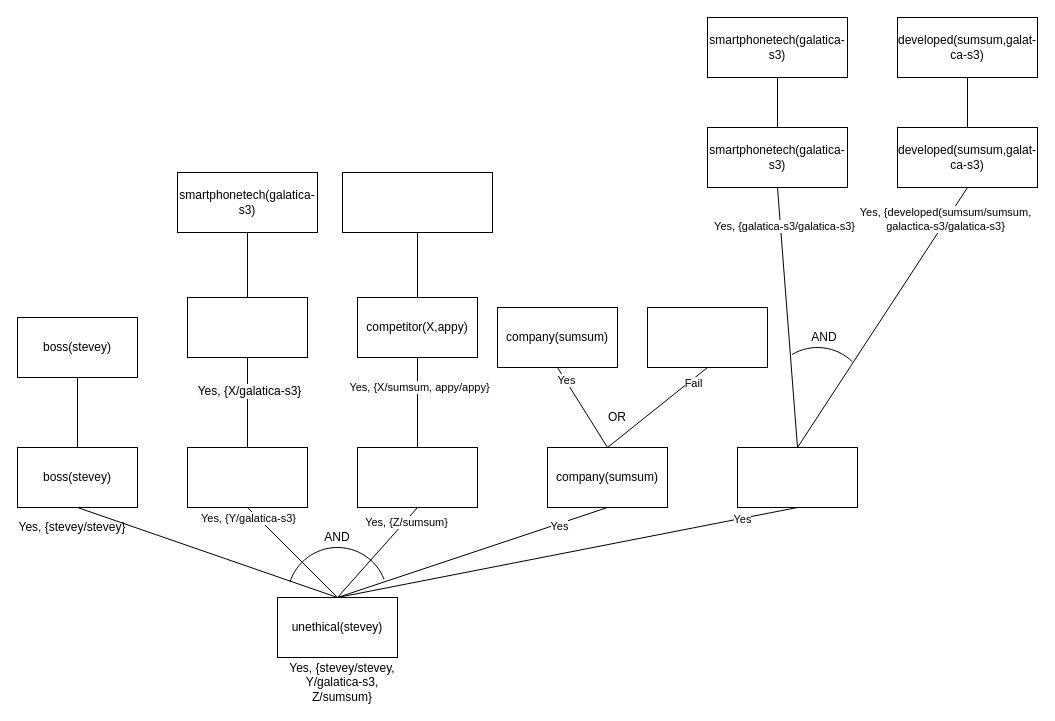
Image size: 1055x721. Some labels were removed from this diagram. The shapes that lost their labels are listed below. From the top down, each one's centre as x and y in pixels, then its label:
At point (417, 202): "competitor(sumsum,appy)".
At point (247, 327): "smartphonetech(X)".
At point (707, 337): "company(appy)".
At point (247, 477): "business(Y)".
At point (417, 477): "rival(Z)".
At point (797, 477): "steal(stevey,galatica-s3,sumsum)".
